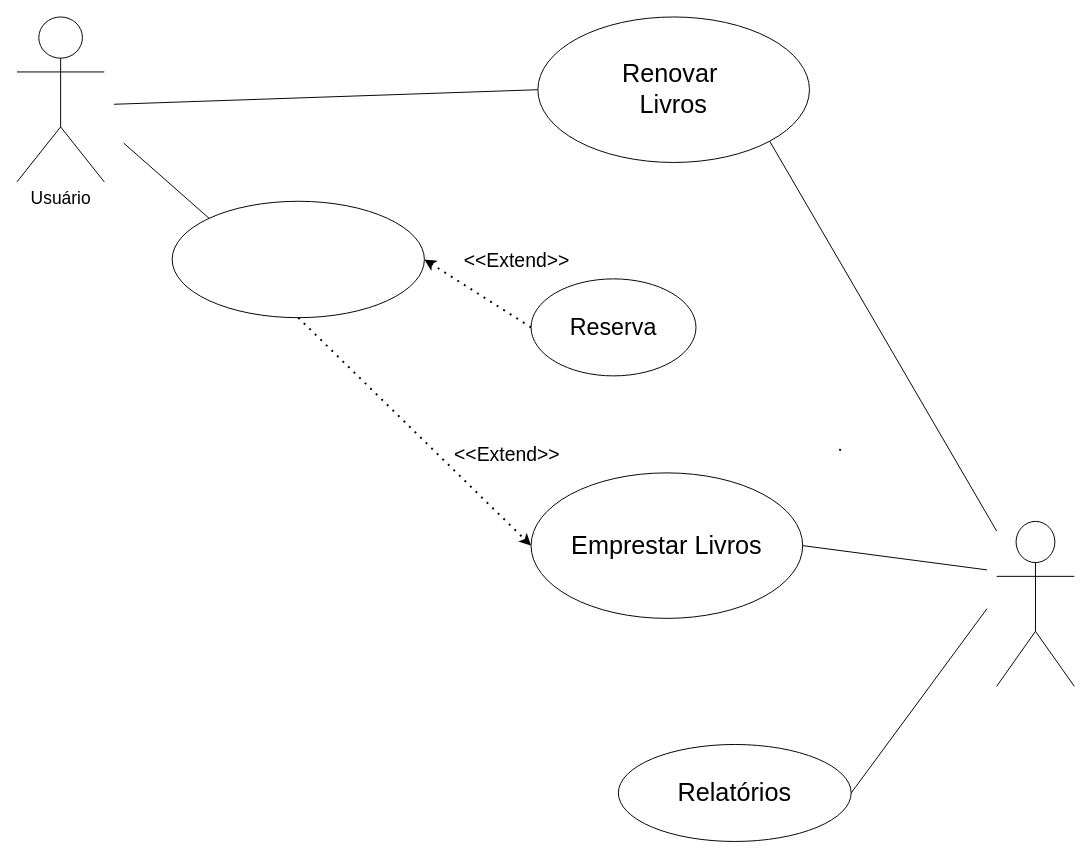
Some shapes in this 1091 by 858 pixel diagram are drawn without their labels. The centre of each missing label's shape, as x and y in pixels:
"Biblioteca" goes at point 1035,603.
"Pesquisar Livros" goes at point 297,259.
